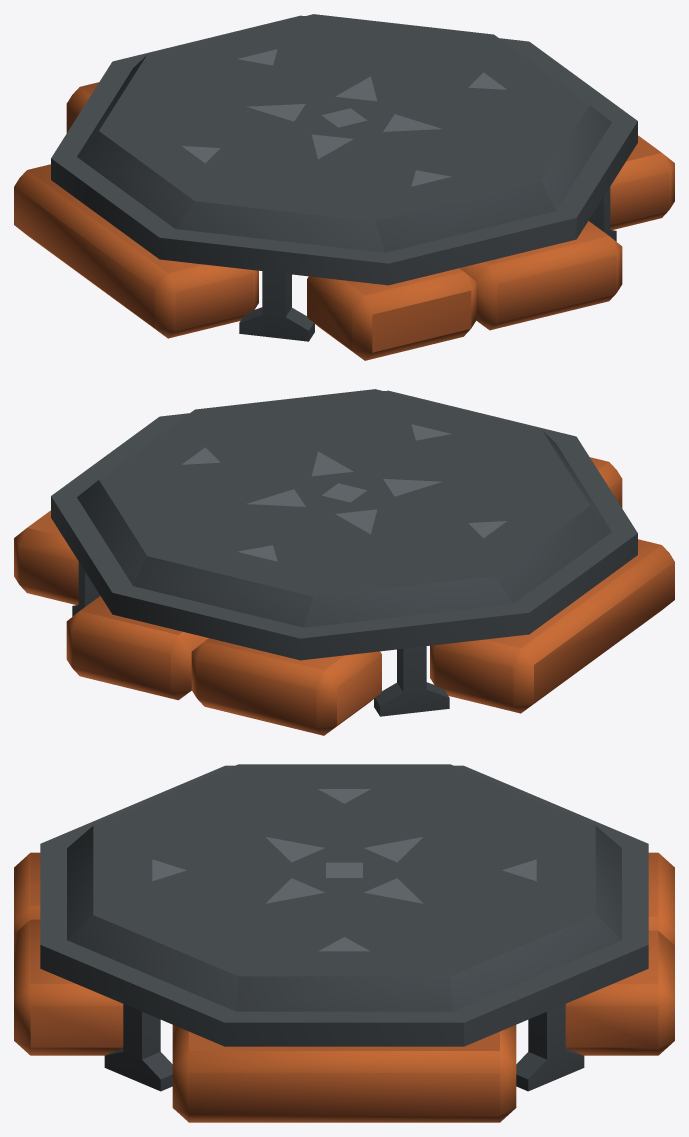
The model's file is space-landingpad-large.glb.
3 views of the same model, one above another, from view 1: azimuth 30°, elevation 25°; view 2: azimuth 150°, elevation 25°; view 3: azimuth 270°, elevation 25° (orthographic). The views are drawn at different scales.
Parts seen in each view (by area): view 1: landingpad_large; view 2: landingpad_large; view 3: landingpad_large.
Part boxes in pixels (box(x1,y1,x2,y2)): landingpad_large: box(14, 14, 674, 360); landingpad_large: box(14, 389, 674, 735); landingpad_large: box(14, 764, 674, 1122).
Size of the model in its own units: 2.5 by 0.5 by 2.5.
